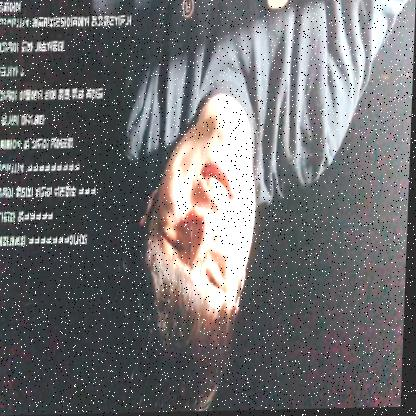streamer: (73, 0, 416, 415)
